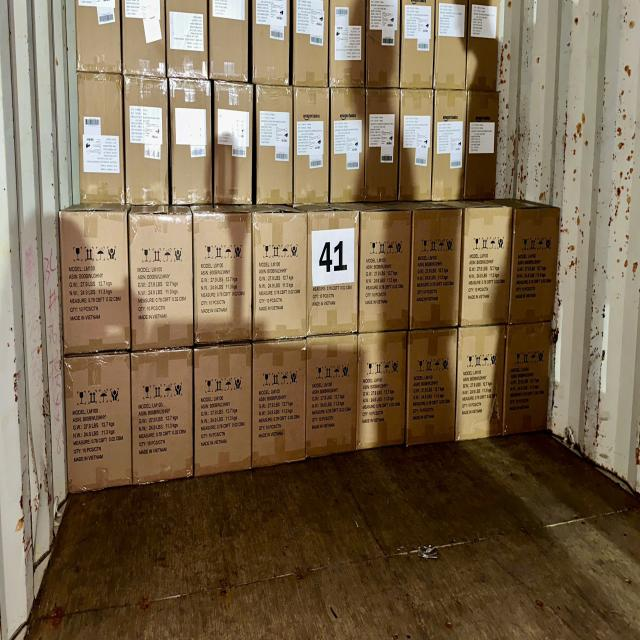Carton: (59, 212, 131, 352), (63, 355, 132, 490), (126, 212, 192, 348), (129, 352, 192, 483), (192, 212, 252, 342), (193, 346, 252, 474), (252, 214, 308, 339), (254, 341, 308, 462), (310, 212, 362, 333), (358, 209, 411, 327), (308, 333, 359, 452), (413, 207, 462, 326), (465, 209, 513, 327), (356, 330, 405, 445), (406, 332, 456, 444), (514, 209, 562, 323), (459, 330, 506, 441), (504, 325, 550, 431)
